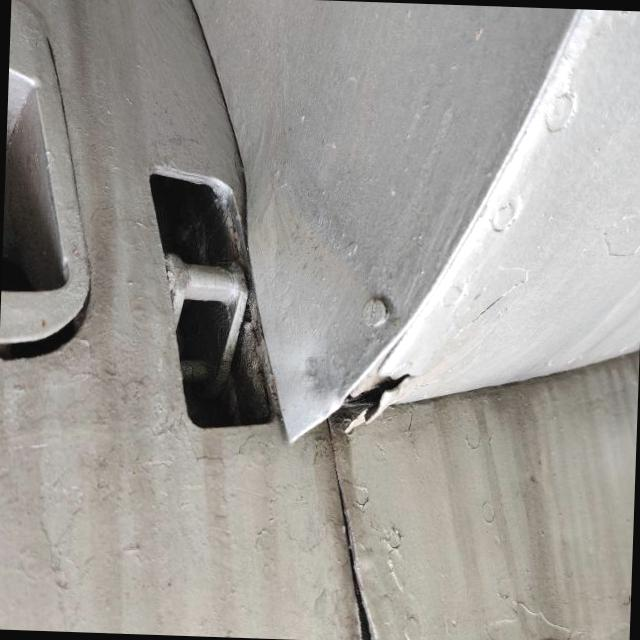crack: (322, 345, 430, 447)
